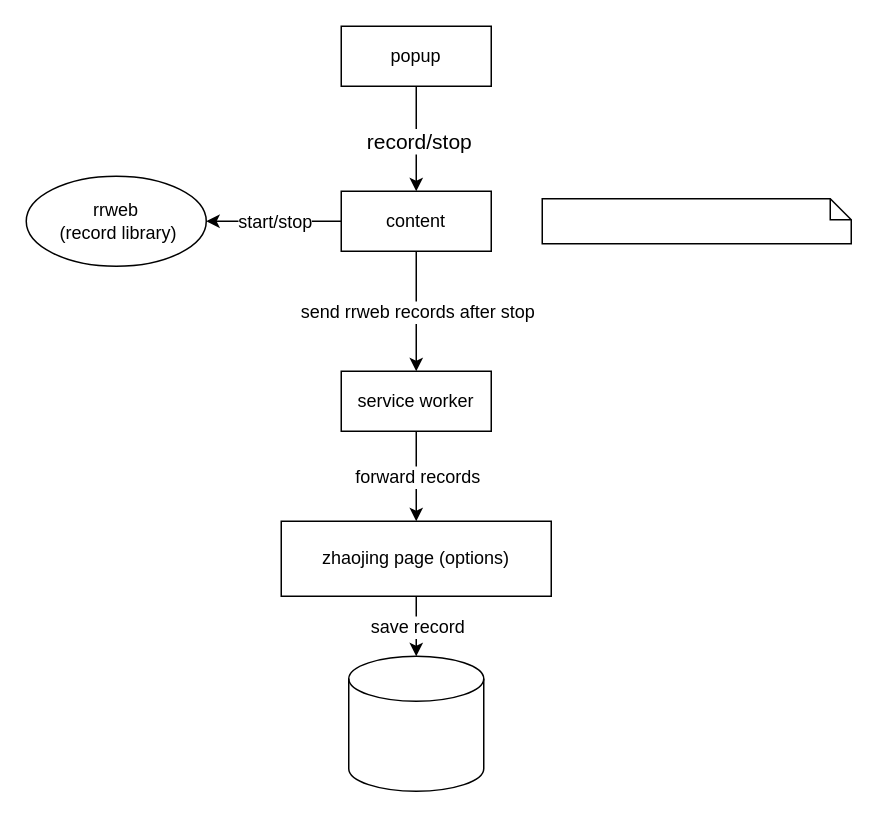
Image size: 878x818. Some labels were removed from this diagram. Here are the shapes that lost their labels. From the top down, the centre of each, then its label:
At [696,220]: "state: content manage is recording".
At [415,723]: "IndexedDB (zhaojing records)".
